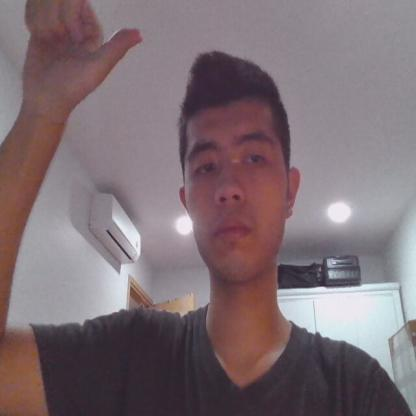left: (0, 1, 144, 108)
